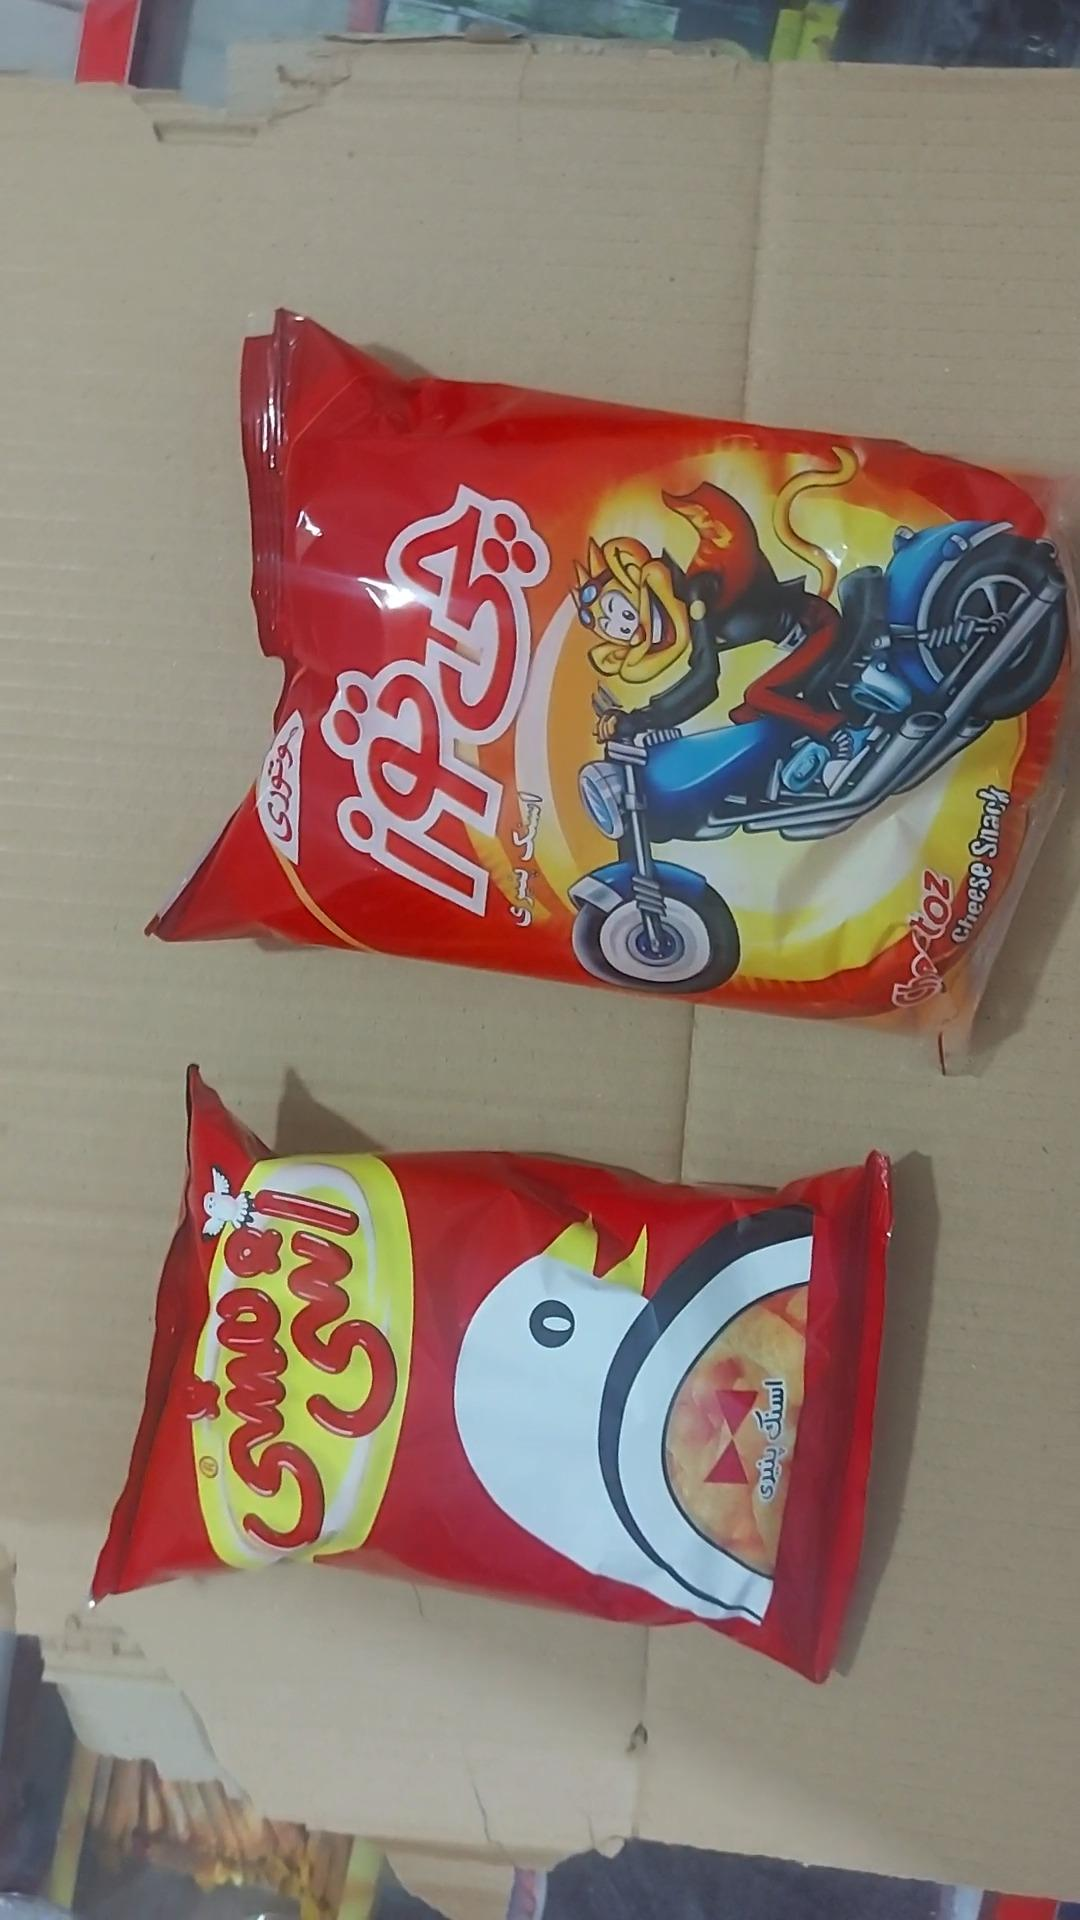Ashi Mashi snacks: (88, 1072, 894, 1687)
Cheetoz snack 90g: (152, 313, 1079, 1043)
